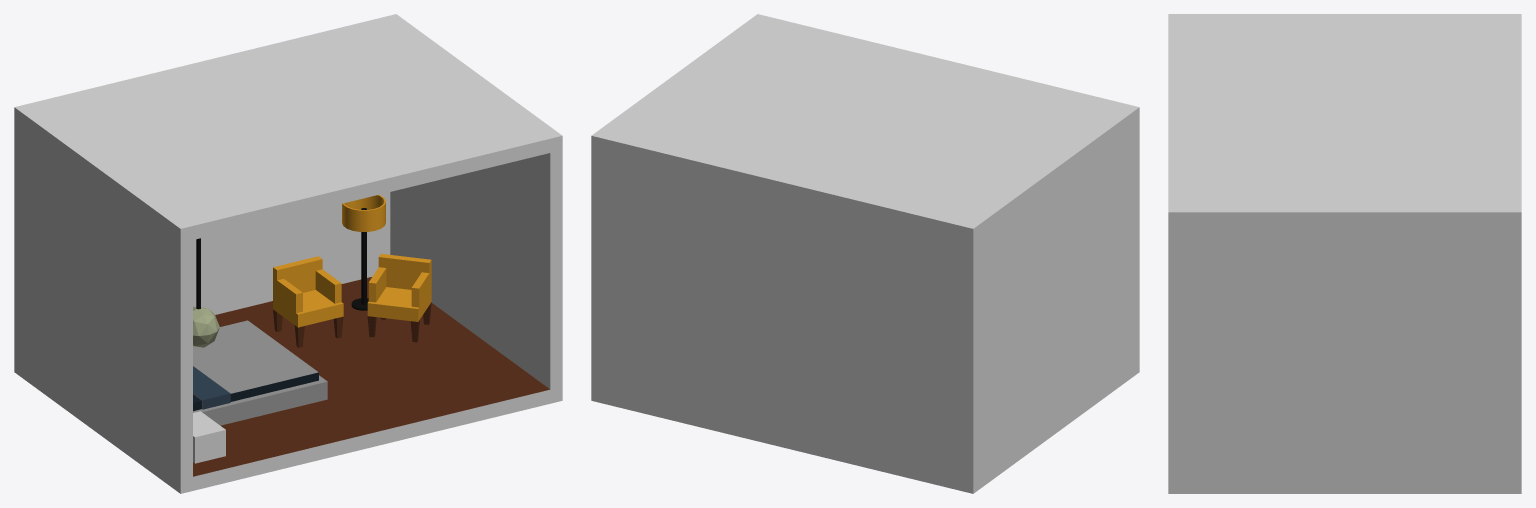
Rendered from bedroom.obj.
3 views of the same model, side by side, from view 1: azimuth 30°, elevation 25°; view 2: azimuth 150°, elevation 25°; view 3: azimuth 270°, elevation 25° (orthographic). The views are drawn at different scales.
Visible parts, largest first — view 1: Box001, Box006; view 2: Box001; view 3: Box001.
Boxes of the visible parts, x1=… form: Box001: x1=14, y1=14, x2=562, y2=493; Box006: x1=193, y1=195, x2=431, y2=463; Box001: x1=591, y1=14, x2=1139, y2=493; Box001: x1=1168, y1=14, x2=1521, y2=493.
Size of the model in its own units: 94.62 by 62.73 by 71.35.
